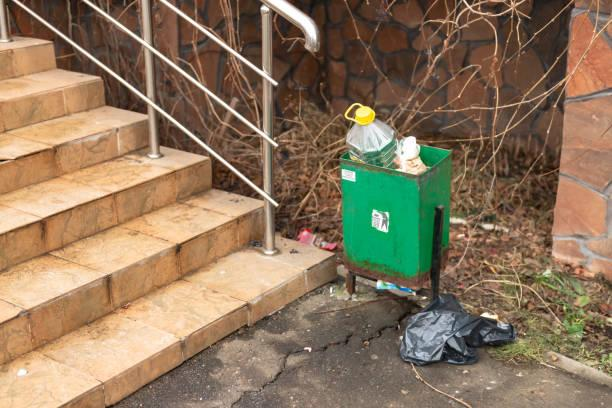trash: (397, 291, 514, 364), (348, 107, 426, 174), (371, 273, 424, 307), (292, 223, 338, 261)
trash_can_overflow: (314, 91, 503, 361)
